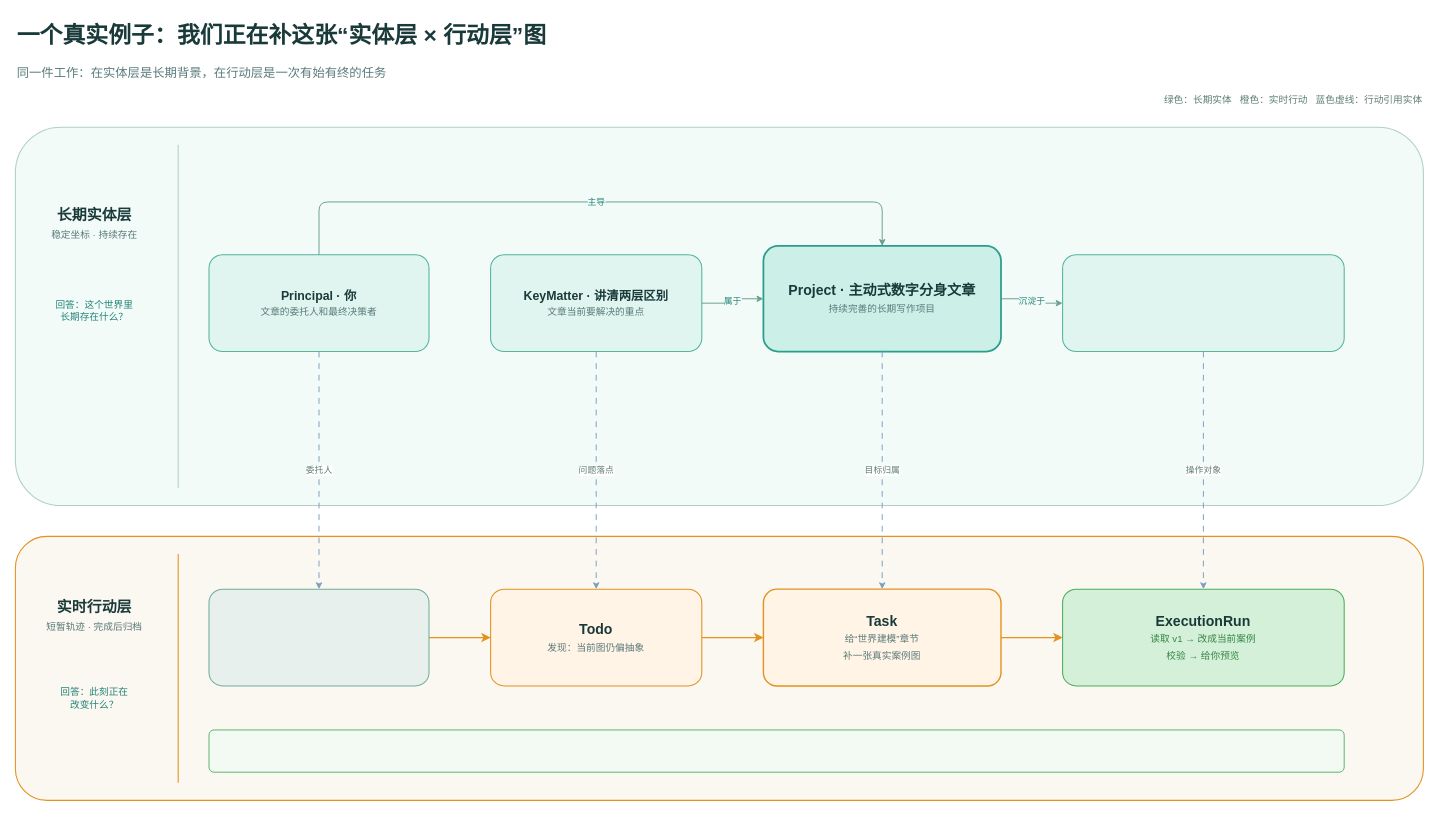
The diagram is 1440 pixels wide and 816 high, and some of its shapes have lost their labels. The shapes that lost their labels are listed below. From the top down, each one's box as (x1, y1, x2, y2) in pixels, then its label:
(1062, 254, 1344, 352): Resource · 飞书“世界建模”章节 承载正文与两张配图的资料
(208, 588, 429, 686): 你提出新要求 “给一个例子”
(208, 729, 1344, 772): 完成后： Todo / Task / ExecutionRun 进入历史；文章、重点和章节仍作为实体存在，结果成为新的 Fact / Summary。
